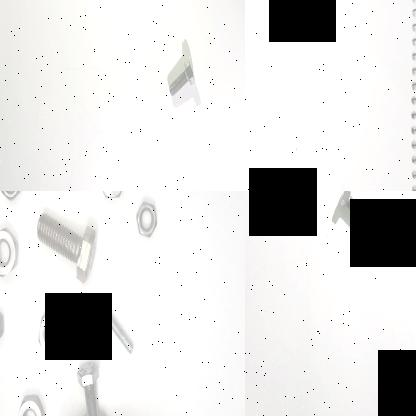Bolts: (31, 209, 101, 284), (94, 289, 138, 362), (72, 360, 104, 416), (166, 57, 198, 96), (334, 191, 366, 225)
NUTS: (36, 304, 68, 373), (129, 191, 162, 241), (0, 222, 21, 278), (15, 391, 46, 416), (0, 191, 24, 204), (0, 305, 7, 346)
